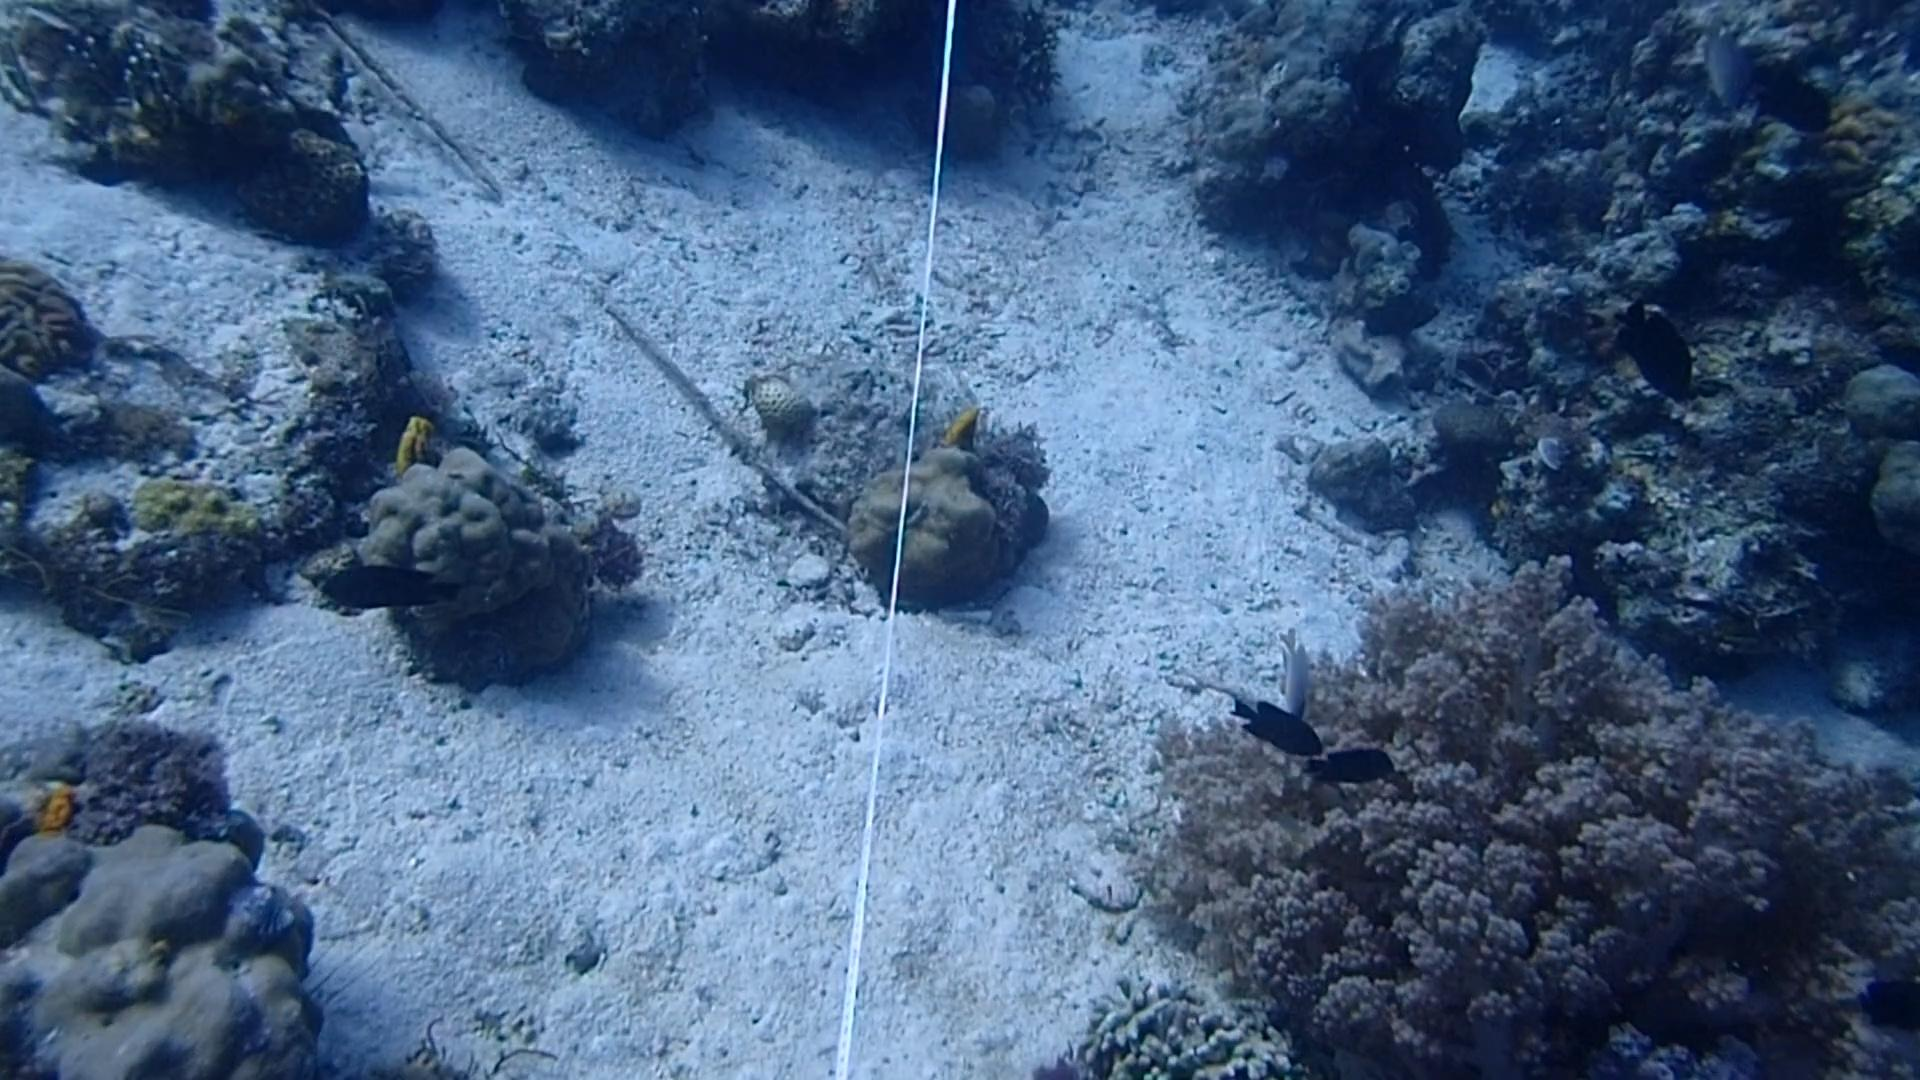Dark Fish: (1607, 291, 1705, 406), (316, 549, 463, 622), (1746, 47, 1851, 144), (1221, 686, 1332, 773), (1288, 738, 1414, 804), (1837, 967, 1920, 1034)
Light Fish: (1258, 634, 1329, 724), (1693, 26, 1759, 116)
